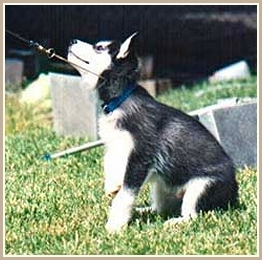dog: (67, 28, 240, 236)
